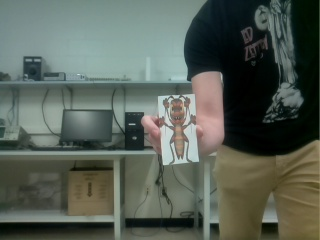Angry: (158, 95, 197, 165)
